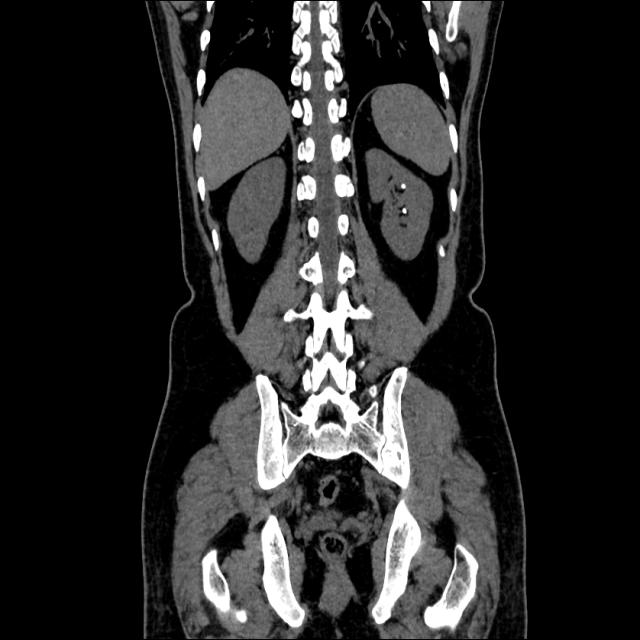kidneystone: (401, 207, 408, 214), (400, 184, 406, 190)
